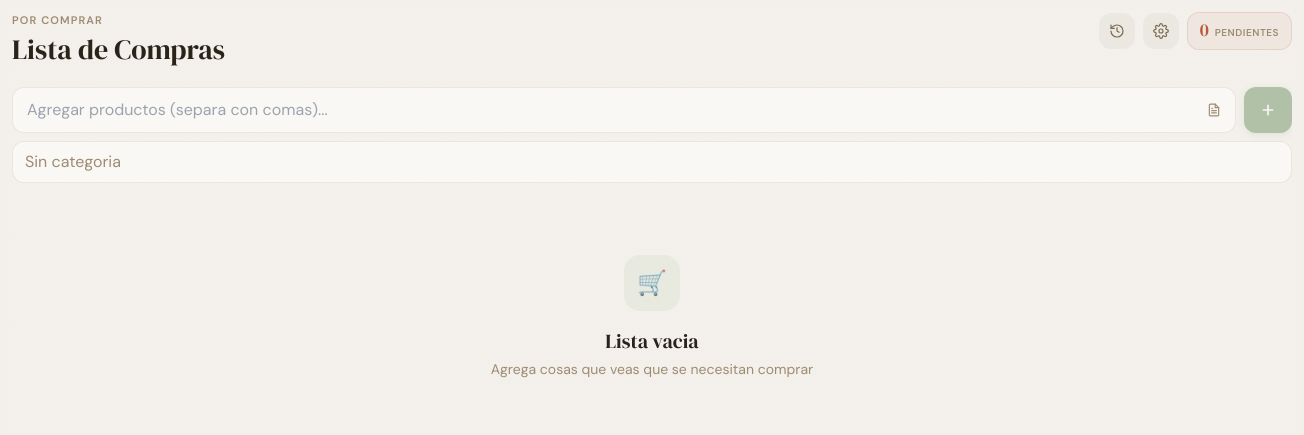
ShoppingList — Smart Tags integration › descartar sugerencia con X la oculta
Type "detergente" into the field with placeholder "Agregar productos (separa con comas)..." at [624, 110], box [12,86,1236,132]
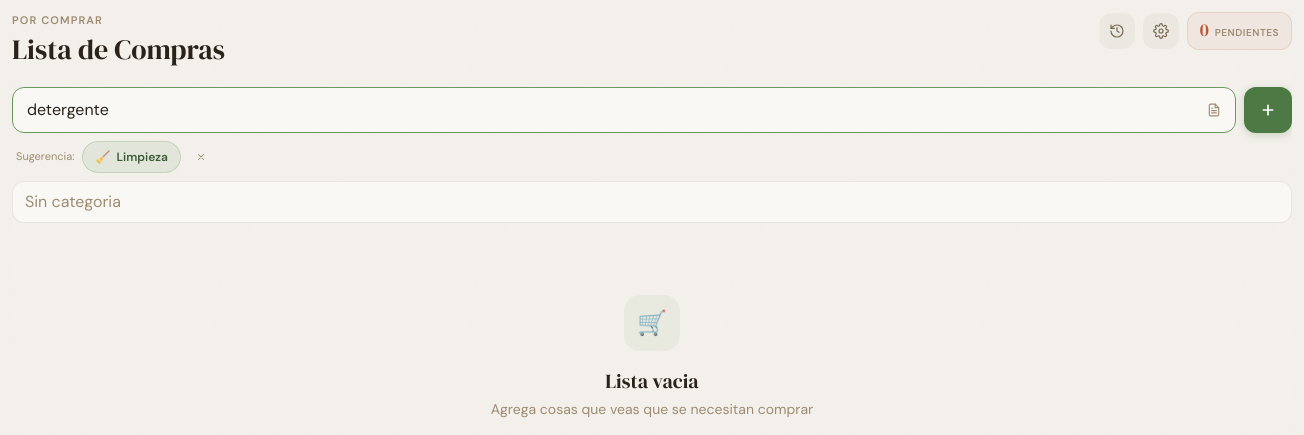
Check: the text "Sugerencia:" is shown, box [16,148,74,165]
Note: Click dismiss button (the X)
Click the button titled "Descartar sugerencia" at [201, 156], box [189,144,213,168]
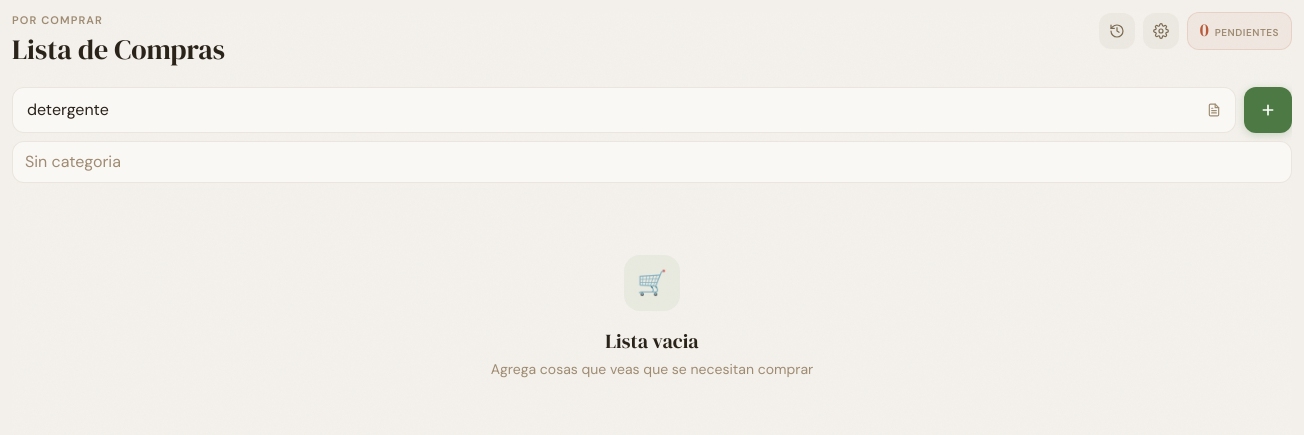
Check: the dropdown shows "Sin categoria", box [12,140,1292,182]
Check: the text "Sugerencia:" is gone
